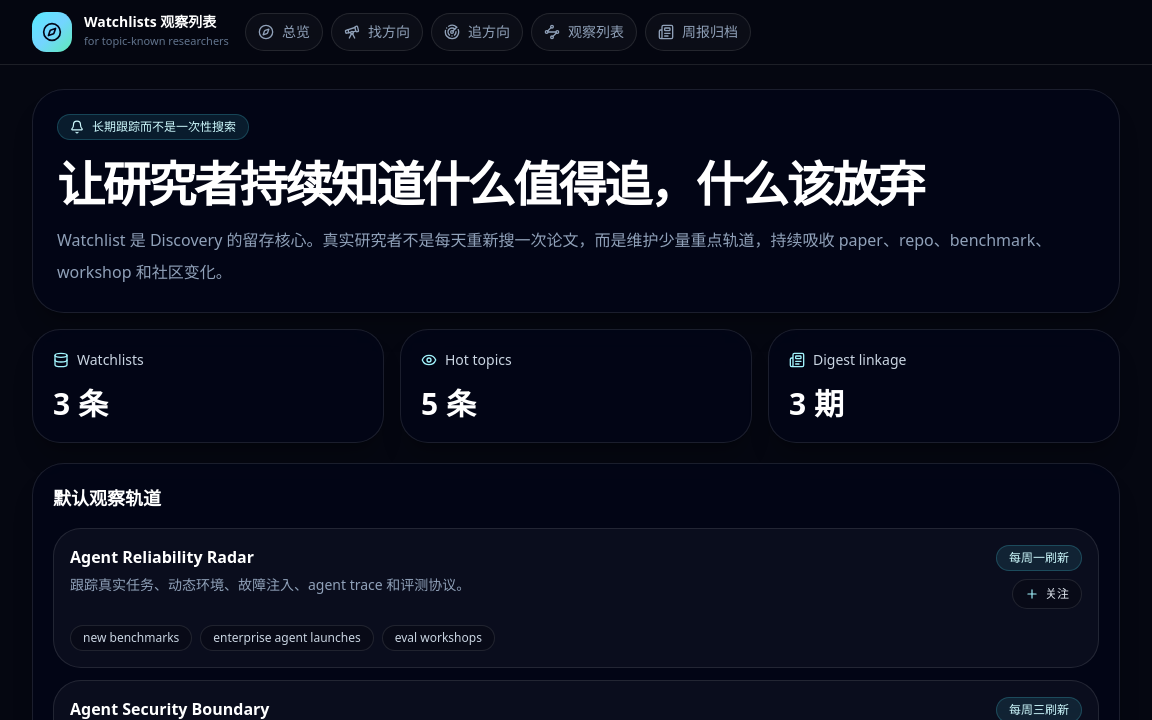
Test case: DiscoveryWatchlists persistence › persists selected watchlist lanes in localStorage
The width and height of the screenshot is (1152, 720).
Click the button with aria-label "关注 Agent Reliability Radar" at [1047, 594], box top-left (1012, 579), bottom-right (1082, 609)
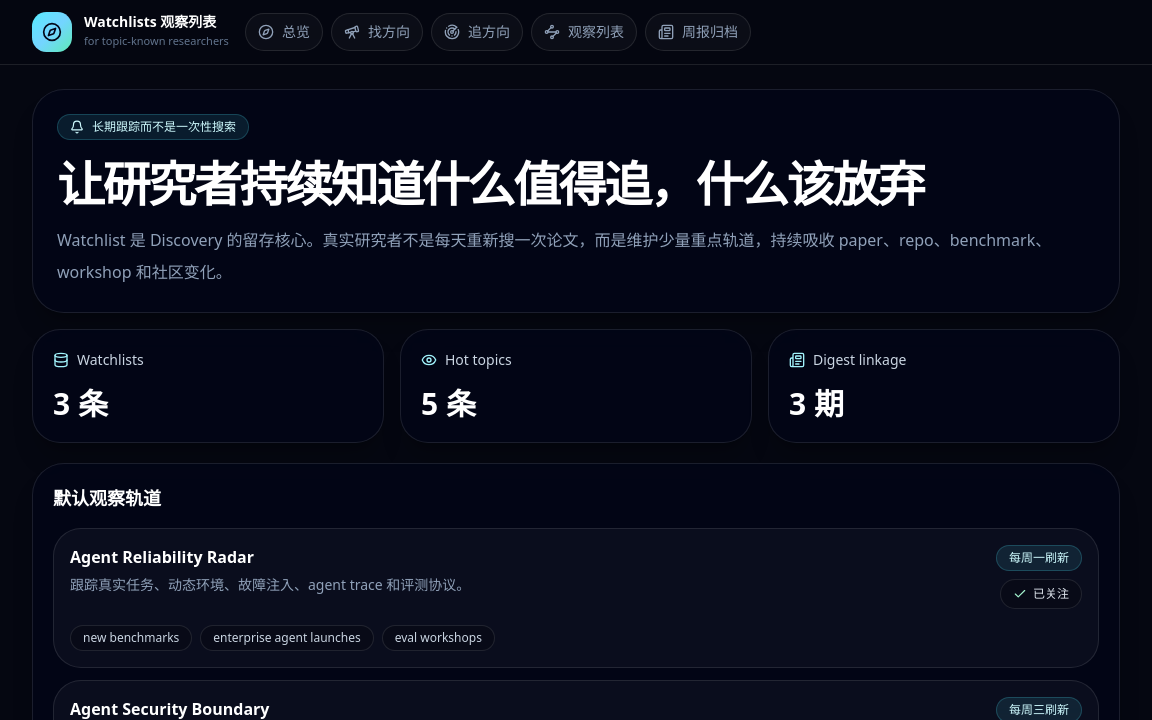
Expected: the button with aria-label "已关注 Agent Reliability Radar" is shown, top-left (1000, 579), bottom-right (1082, 609)
